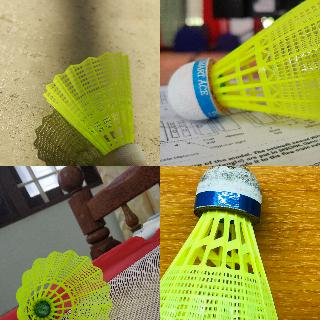shuttlecock: (166, 0, 319, 132), (160, 166, 292, 319), (42, 51, 146, 165), (15, 250, 113, 319)
